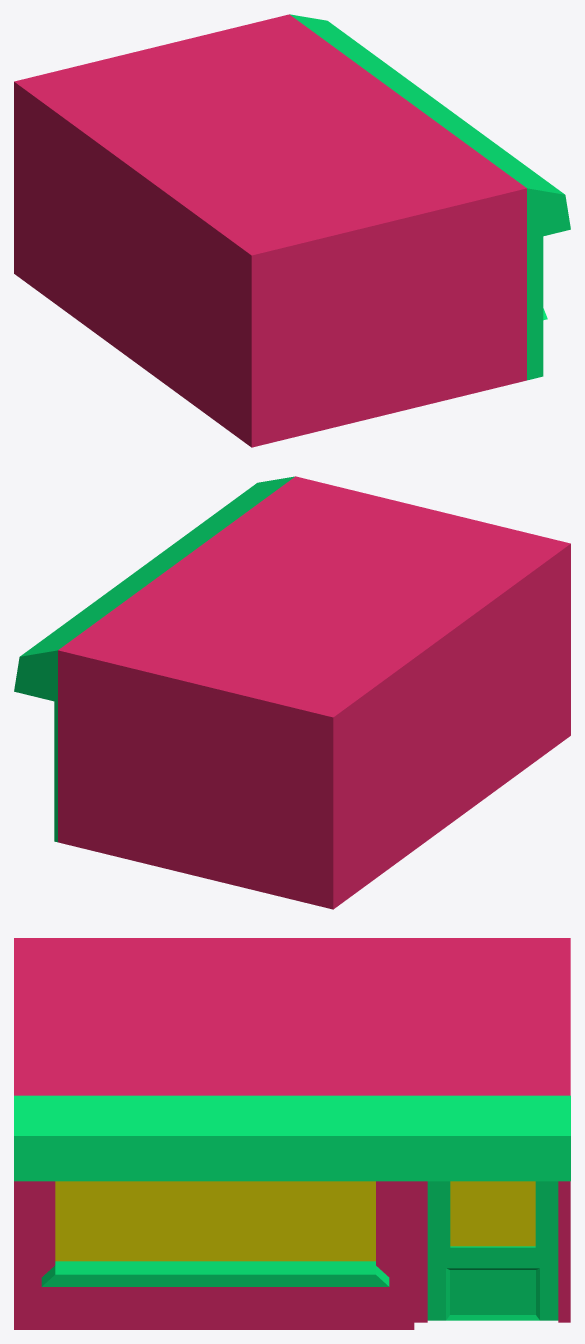
The model's file is Fachada3.fbx.
3 renders of one model, top to bottom at view 1: azimuth 30°, elevation 25°; view 2: azimuth 150°, elevation 25°; view 3: azimuth 270°, elevation 25°, orthographic. The views are drawn at different scales.
Parts seen in each view (by area): view 1: Cube.051; view 2: Cube.051; view 3: Cube.051.
Part boxes in pixels (<box>): Cube.051: <box>14,14,570,447</box>; Cube.051: <box>14,476,570,909</box>; Cube.051: <box>14,938,570,1329</box>.
Bounding box in the file's own units: 696 × 400 × 897.
